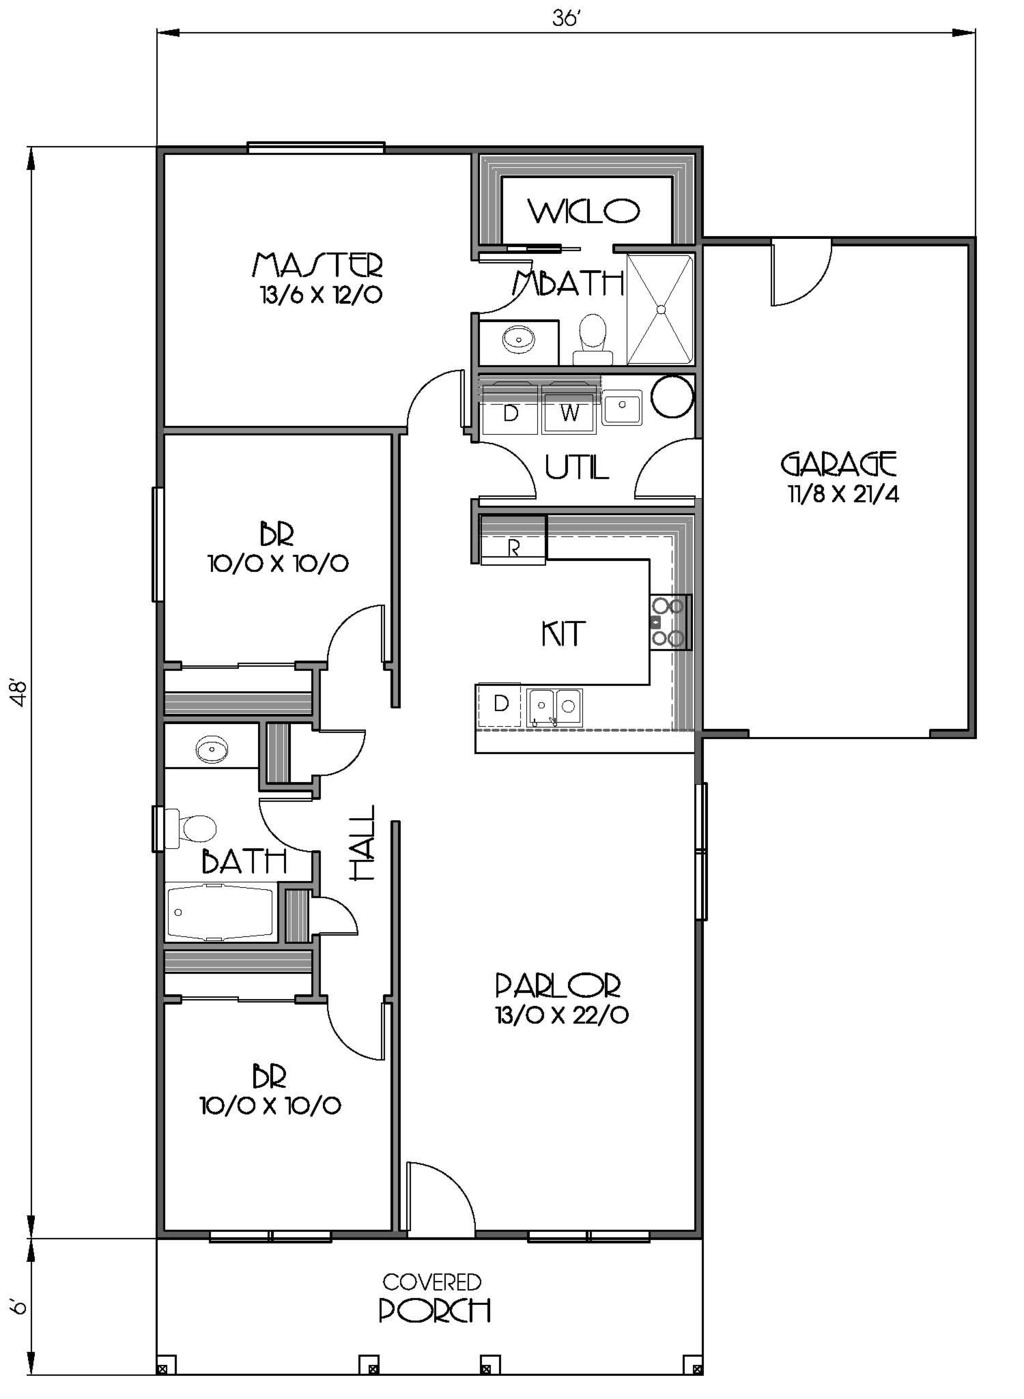door: (393, 1150, 478, 1245), (762, 234, 840, 322), (325, 602, 399, 682), (401, 363, 478, 439), (621, 432, 710, 497), (251, 791, 336, 858), (469, 428, 538, 506), (304, 726, 385, 784), (321, 995, 395, 1058), (309, 891, 367, 950)
large_sink: (147, 808, 230, 858), (569, 304, 619, 378)
sink: (595, 378, 649, 428)
small_sink: (478, 311, 576, 374), (164, 724, 254, 765)
tub: (162, 880, 285, 930)
twin_sink: (517, 682, 595, 730)
window: (219, 1215, 336, 1256), (524, 1226, 649, 1248)
